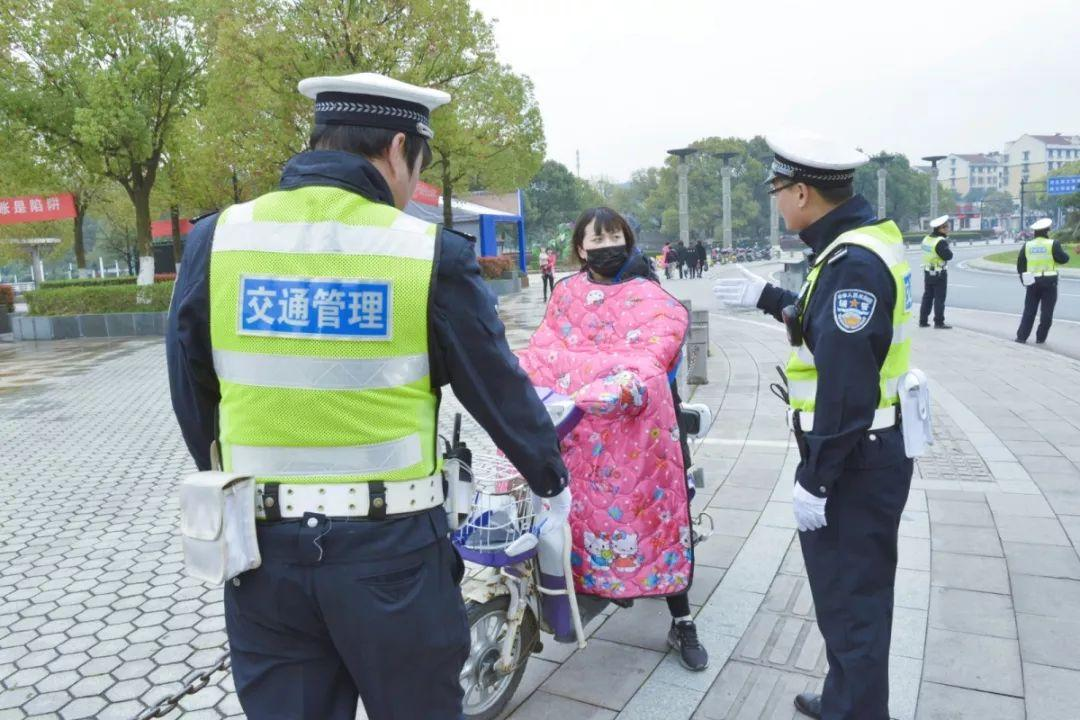target: (450, 203, 710, 713)
